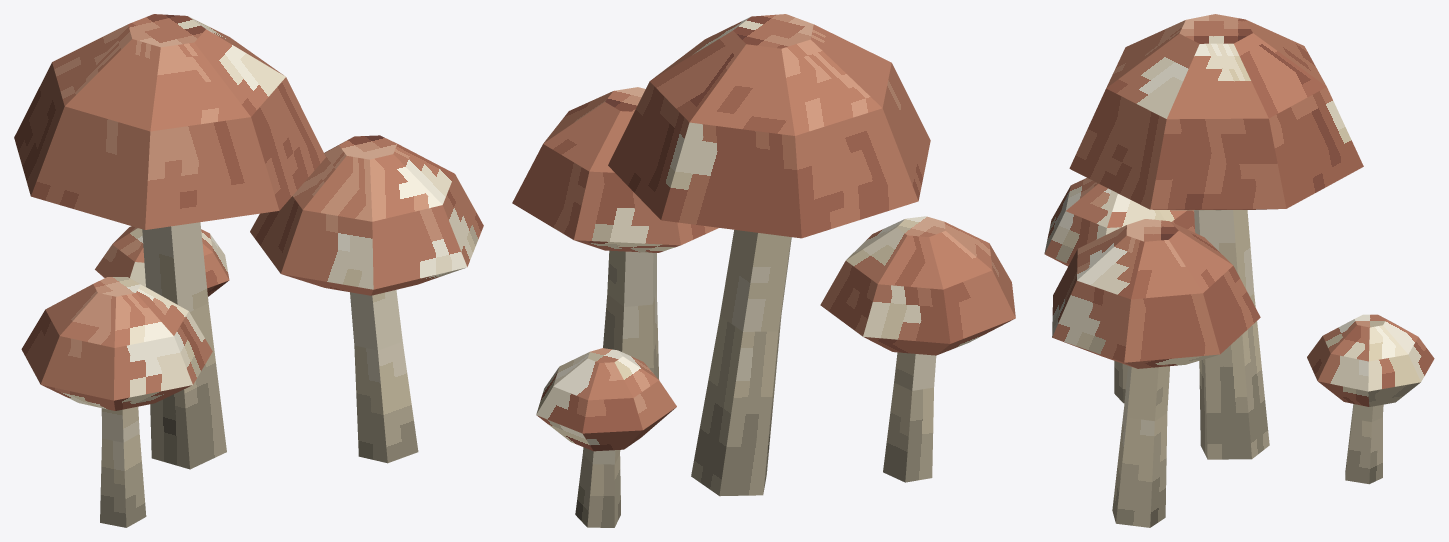
Rendered from toadstools.glb.
3 renders of one model, left to right at view 1: azimuth 30°, elevation 25°; view 2: azimuth 150°, elevation 25°; view 3: azimuth 270°, elevation 25°, orthographic. The views are drawn at different scales.
Parts seen in each view (by area): view 1: capm_2, capm_4, capm_6, stem_1, stem_3, stem_5, capm_8; view 2: capm_2, capm_6, stem_1, capm_4, capm_8, stem_5, stem_3, stem_7; view 3: capm_2, capm_4, stem_1, capm_8, stem_3, capm_6, stem_7, stem_5.
Part boxes in pixels (box(x1,y1,x2,y2)): capm_2: box(14, 14, 325, 229); capm_4: box(250, 135, 483, 295); capm_6: box(21, 277, 212, 410); stem_1: box(142, 222, 226, 469); stem_3: box(350, 290, 418, 463); stem_5: box(100, 406, 146, 527); capm_8: box(95, 226, 229, 296); capm_2: box(608, 14, 930, 238); capm_6: box(820, 216, 1015, 355); stem_1: box(691, 230, 791, 496); capm_4: box(512, 87, 718, 252); capm_8: box(536, 348, 676, 451); stem_5: box(883, 352, 936, 482); stem_3: box(603, 250, 658, 379); stem_7: box(575, 447, 620, 527); capm_2: box(1069, 14, 1363, 210); capm_4: box(1052, 219, 1260, 368); stem_1: box(1194, 210, 1269, 459); capm_8: box(1307, 314, 1434, 406); stem_3: box(1112, 365, 1169, 527); capm_6: box(1044, 178, 1195, 266); stem_7: box(1345, 404, 1383, 484); stem_5: box(1114, 361, 1127, 403).
Size of the model in its own units: 15.04 by 14.04 by 12.14.
1 material, 1 textured.
